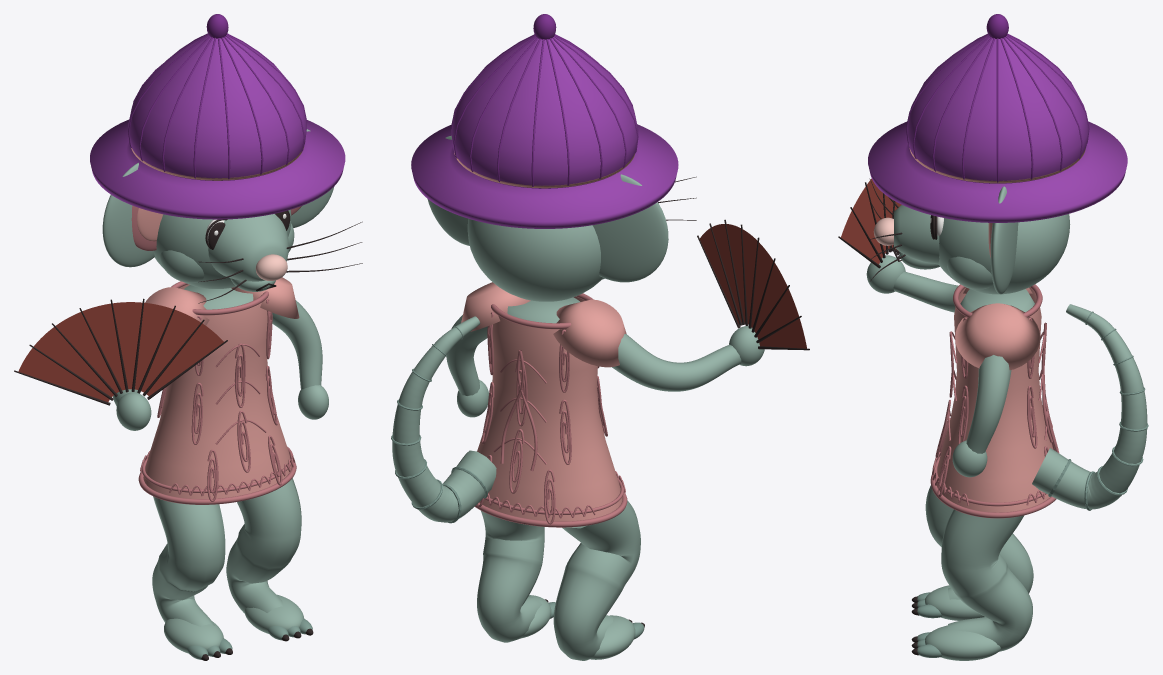
The model's file is mouse_character.glb.
3 renders of one model, left to right at view 1: azimuth 30°, elevation 25°; view 2: azimuth 150°, elevation 25°; view 3: azimuth 270°, elevation 25°, orthographic. The views are drawn at different scales.
Parts seen in each view (by area): view 1: HatCrown, Dress, HatBrim, FanBlade, Leg-1, Leg1, Muzzle, Skull, Ear-1, ArmL, Foot-1, Foot1 (+14 smaller); view 2: HatCrown, Dress, HatBrim, Skull, Leg-1, Tail, Leg1, FanBlade, Ear-1, ArmR, Pauldron-1, ArmL (+8 smaller); view 3: HatCrown, HatBrim, Dress, Leg1, Tail, Skull, Pauldron1, ArmL, FanBlade, Leg-1, Muzzle, Foot1 (+13 smaller).
Boxes of the visible parts, box(x1,y1,x2,y2) form: HatCrown: box(128, 35, 306, 180); Dress: box(143, 284, 291, 498); HatBrim: box(90, 119, 345, 219); FanBlade: box(18, 302, 223, 401); Leg-1: box(152, 496, 225, 626); Leg1: box(226, 478, 301, 613); Muzzle: box(208, 214, 288, 281); Skull: box(153, 209, 291, 288); Ear-1: box(102, 162, 154, 267); ArmL: box(272, 300, 322, 389); Foot-1: box(164, 618, 223, 653); Foot1: box(244, 594, 304, 633); HatCrown: box(451, 36, 638, 188); Dress: box(477, 296, 622, 521); HatBrim: box(411, 124, 678, 228); Skull: box(467, 218, 602, 301); Leg-1: box(553, 500, 640, 660); Tail: box(392, 316, 496, 522); Leg1: box(477, 510, 544, 642); FanBlade: box(699, 224, 806, 348); Ear-1: box(593, 174, 668, 282); ArmR: box(611, 334, 741, 391); Pauldron-1: box(553, 299, 626, 367); ArmL: box(446, 315, 487, 395); HatCrown: box(907, 36, 1088, 183); HatBrim: box(868, 121, 1127, 222); Dress: box(936, 287, 1053, 512); Leg1: box(941, 509, 1032, 651); Tail: box(1032, 304, 1147, 509); Skull: box(938, 214, 1070, 294); Pauldron1: box(955, 303, 1040, 370); ArmL: box(966, 355, 1011, 453); FanBlade: box(841, 178, 901, 264); Leg-1: box(925, 485, 1033, 599); Muzzle: box(894, 205, 939, 264); Foot1: box(925, 625, 1000, 660).
Size of what is drawn, in the model's own units: 1.09 by 1.85 by 0.836.
